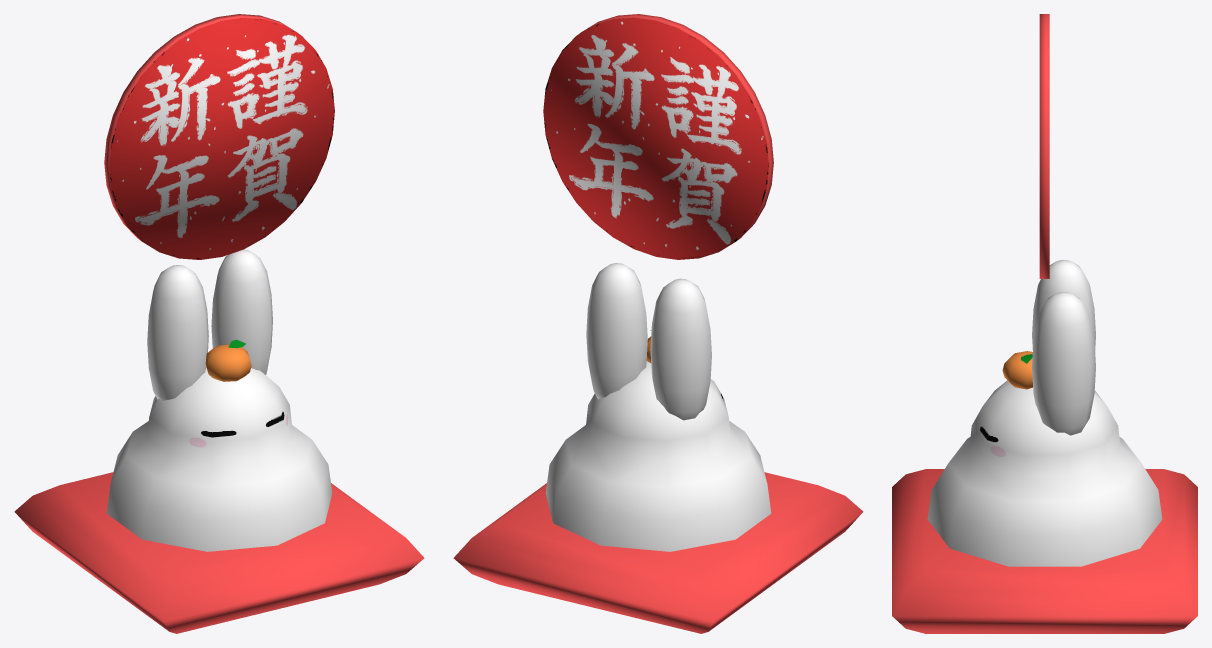
File: mikan_rotation.glb
3 renders of one model, left to right at view 1: azimuth 30°, elevation 25°; view 2: azimuth 150°, elevation 25°; view 3: azimuth 270°, elevation 25°, orthographic.
Parts seen in each view (by area): view 1: Circle.001, Circle.004, Circle, Circle.005, Circle.006; view 2: Circle.001, Circle, Circle.004, Circle.005; view 3: Circle, Circle.004, Circle.005, Circle.001, Circle.006.
Part boxes in pixels (box(x1,y1,x2,y2)): Circle.001: box(104, 14, 334, 259); Circle.004: box(106, 368, 332, 551); Circle: box(14, 472, 424, 633); Circle.005: box(147, 249, 272, 400); Circle.006: box(205, 344, 251, 381); Circle.001: box(543, 14, 773, 259); Circle: box(453, 472, 863, 633); Circle.004: box(545, 361, 771, 551); Circle.005: box(586, 263, 711, 420); Circle: box(892, 469, 1197, 633); Circle.004: box(927, 380, 1162, 566); Circle.005: box(1032, 260, 1095, 435); Circle.001: box(1039, 14, 1049, 278); Circle.006: box(1002, 351, 1032, 389).
Bounding box in the file's own units: 228 × 458 × 228.
6 materials, 2 textured.
